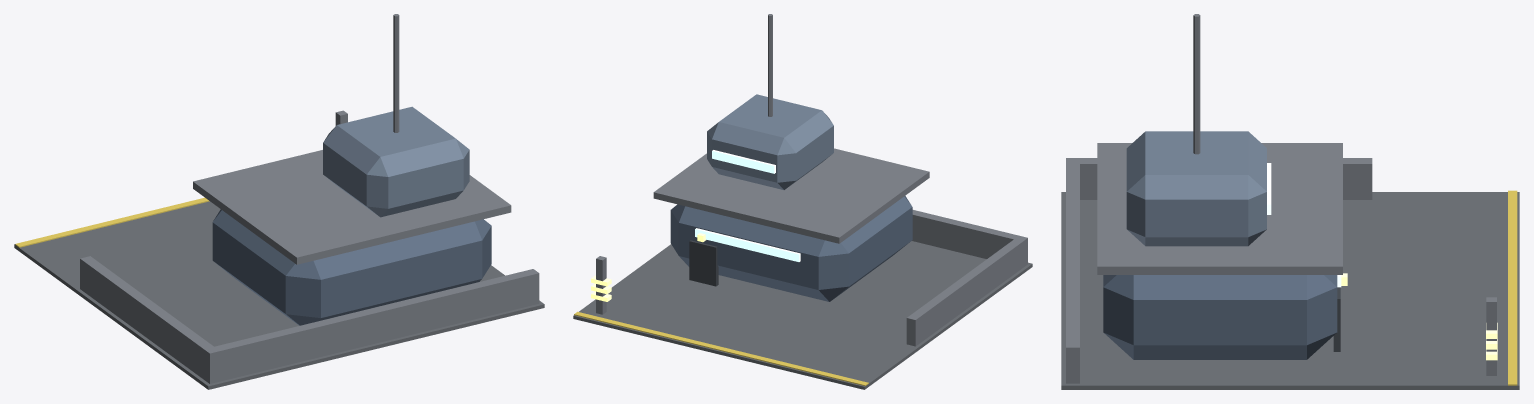
Rendered from zone_low_5_t3.glb.
3 views of the same model, side by side, from view 1: azimuth 30°, elevation 25°; view 2: azimuth 150°, elevation 25°; view 3: azimuth 270°, elevation 25° (orthographic). The views are drawn at different scales.
Parts seen in each view (by area): view 1: zone_low_5_t3, detail; view 2: zone_low_5_t3, detail; view 3: zone_low_5_t3, detail.
Boxes of the visible parts, x1=… form: zone_low_5_t3: x1=14, y1=106, x2=544, y2=389; detail: x1=15, y1=14, x2=399, y2=247; zone_low_5_t3: x1=573, y1=94, x2=1032, y2=389; detail: x1=574, y1=14, x2=868, y2=386; zone_low_5_t3: x1=1061, y1=131, x2=1519, y2=389; detail: x1=1193, y1=14, x2=1517, y2=385.
Size of the model in its own units: 19.6 by 15.2 by 19.6.
